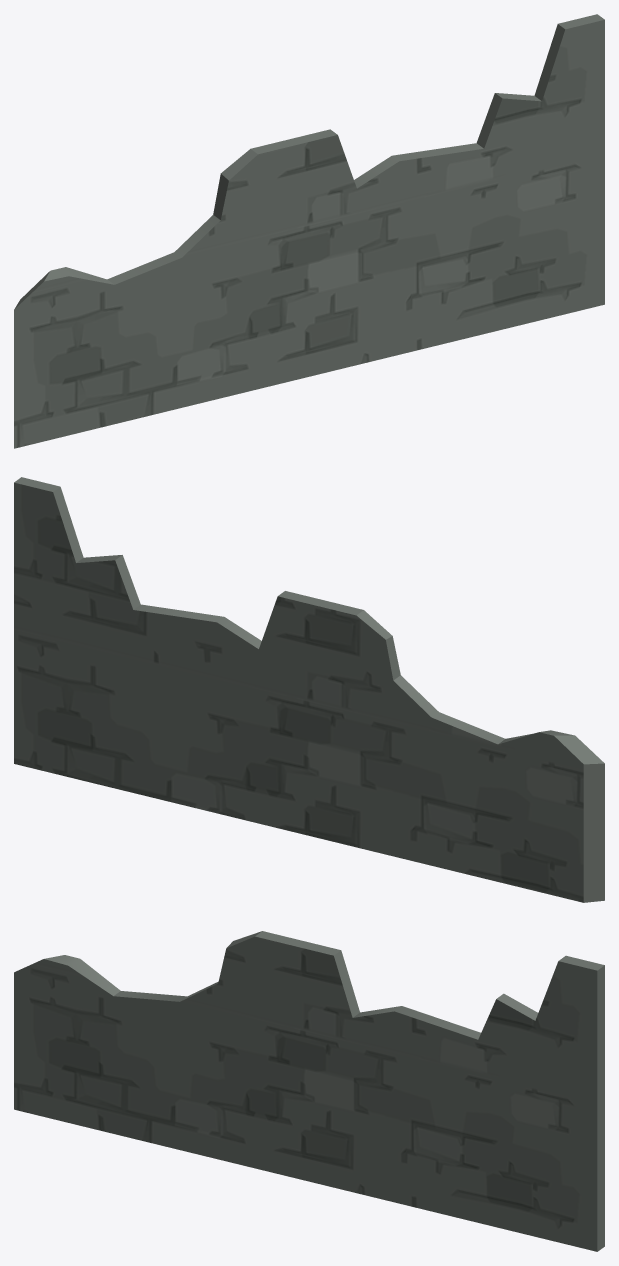
The model's file is SM_Env_Wall_01.fbx.
3 renders of one model, top to bottom at view 1: azimuth 30°, elevation 25°; view 2: azimuth 150°, elevation 25°; view 3: azimuth 330°, elevation 25°, orthographic.
Parts seen in each view (by area): view 1: SM_Env_Wall_01; view 2: SM_Env_Wall_01; view 3: SM_Env_Wall_01.
Boxes of the visible parts, x1,y1,x2,y2 form: SM_Env_Wall_01: (14, 14, 604, 448); SM_Env_Wall_01: (14, 477, 604, 902); SM_Env_Wall_01: (14, 931, 604, 1251).
Size of the model in its own units: 455 by 210 by 10.15.
1 material, 1 textured.
